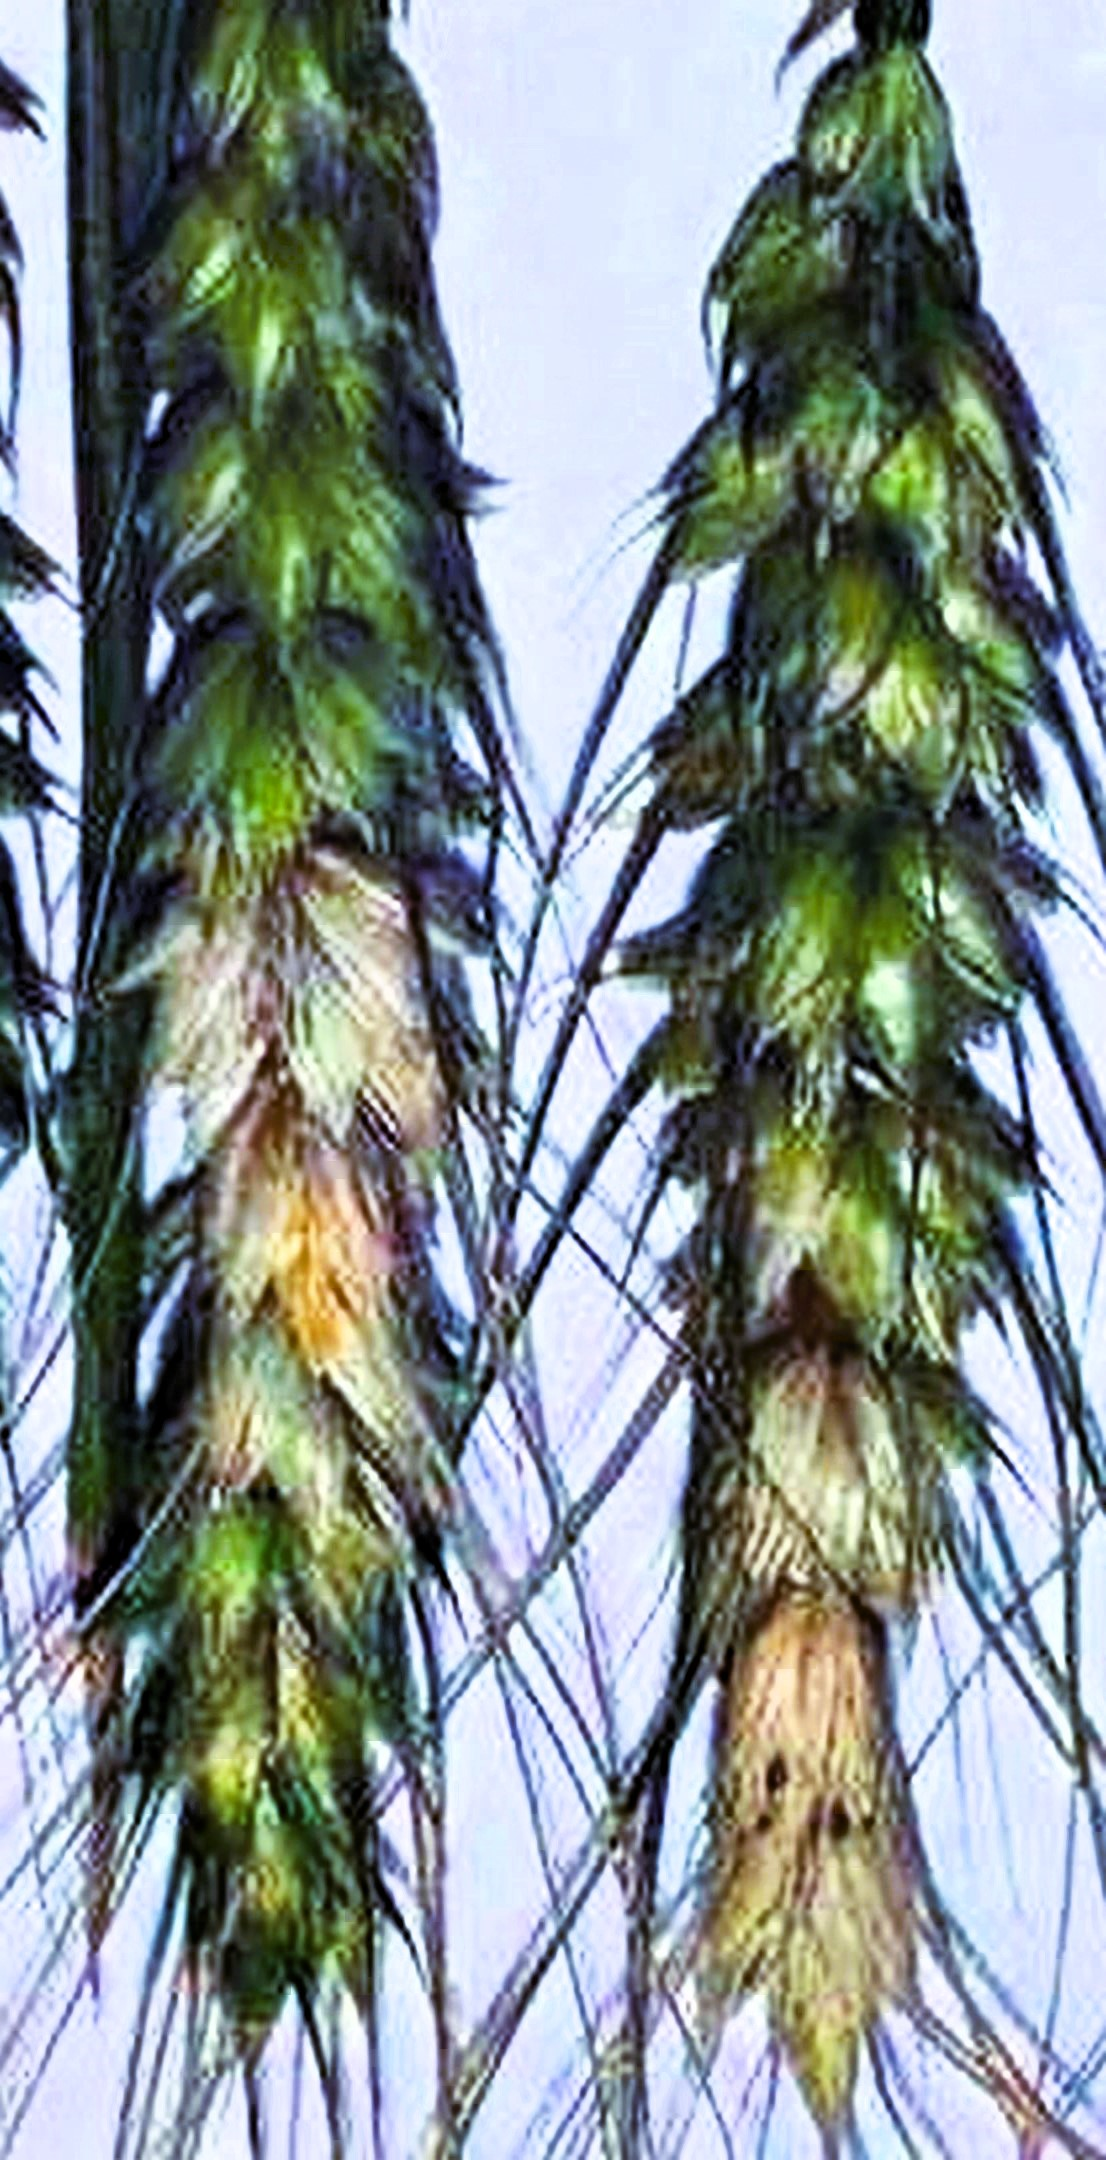Wheat scab: (80, 149, 554, 2018), (652, 773, 1082, 2066)
